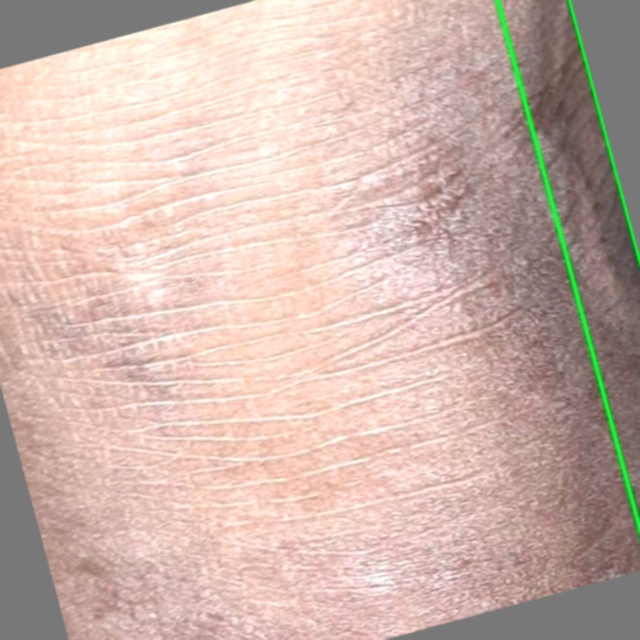Contact Dermatitis: (497, 0, 639, 527)
